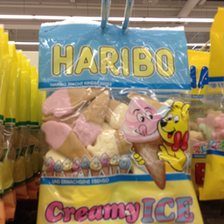candy: (37, 21, 203, 224)
